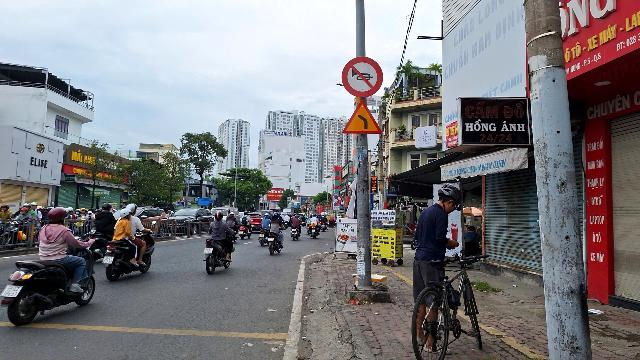cam-bop-coi: (340, 56, 383, 99)
cho-ngoat-nguy-hiem-ben-trai: (342, 99, 382, 134)
